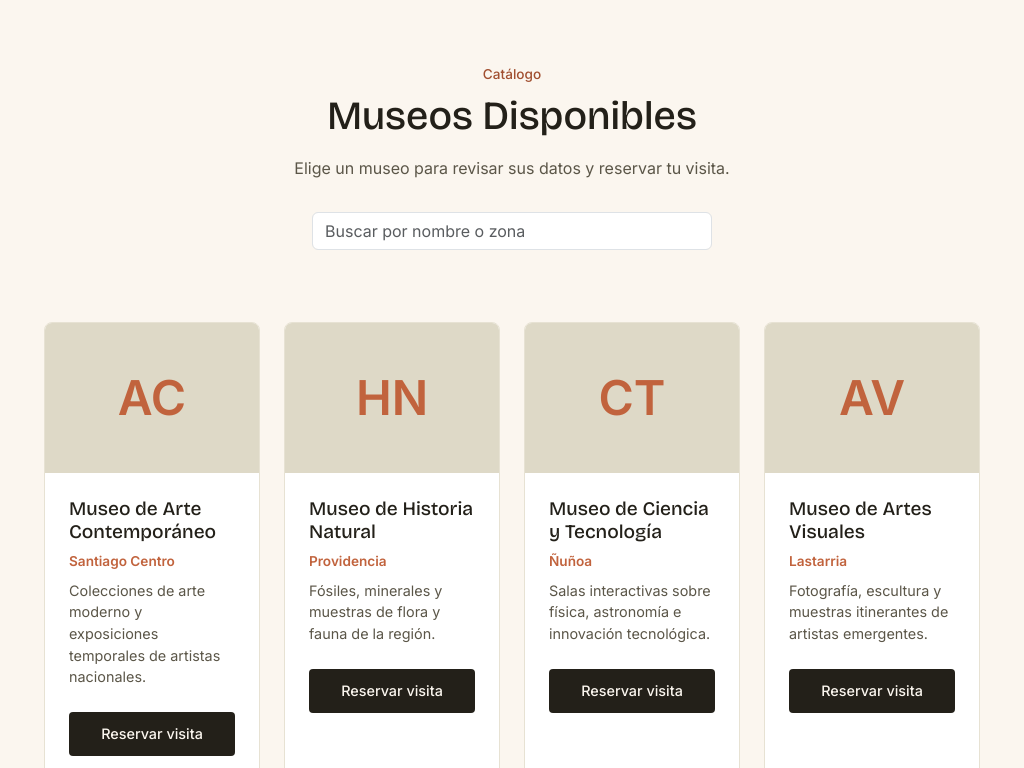
Página Museos › muestra un mensaje cuando la búsqueda no tiene resultados
In the search field with placeholder "Buscar por nombre o zona": (512, 231) [312, 212, 712, 250], type "xyz"
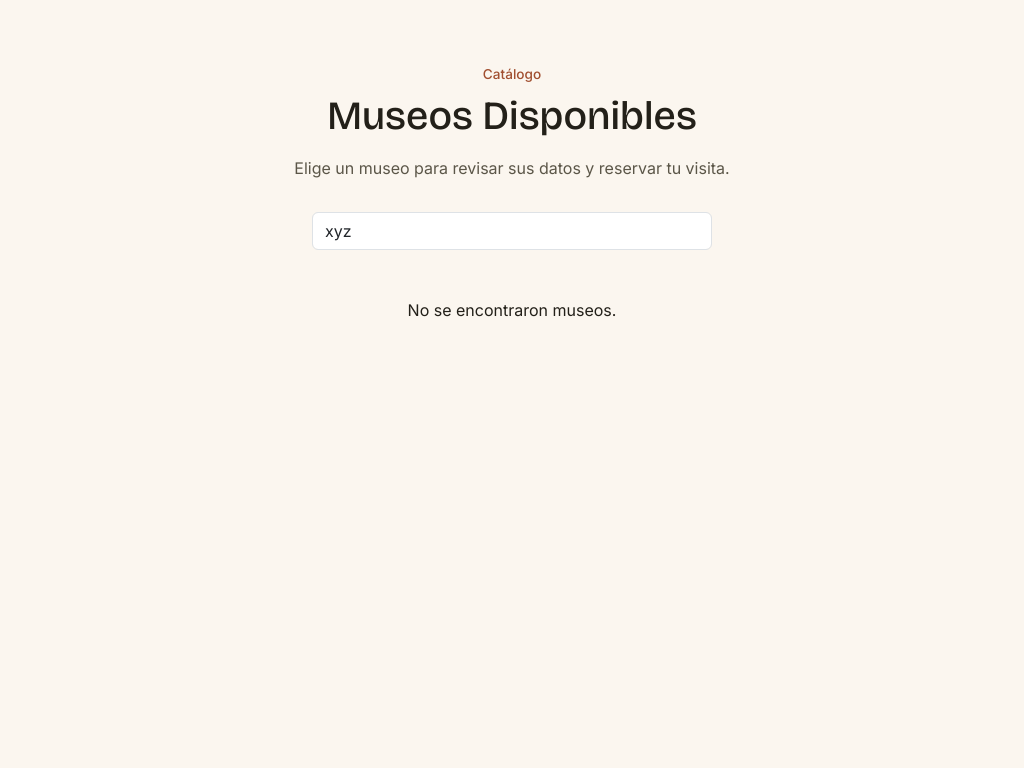
Check: the text "No se encontraron museos." is shown, box [408, 300, 616, 320]
Check: no list items are shown
